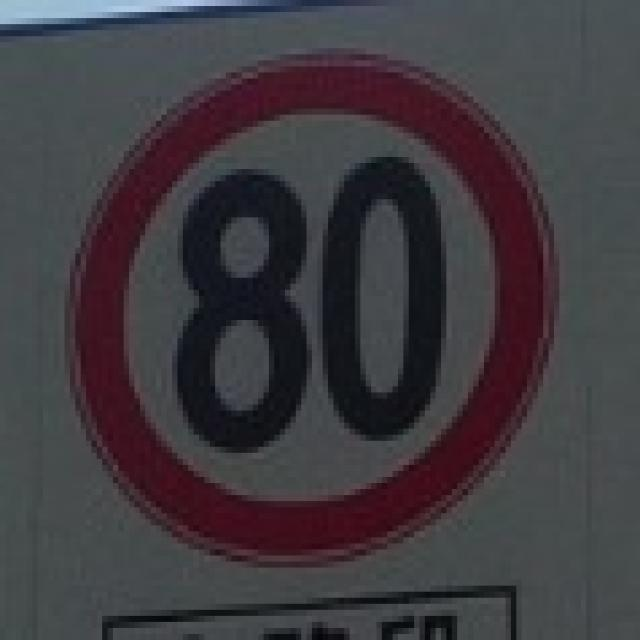Speed Limit -80-: (170, 155, 449, 451)
